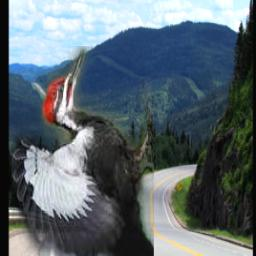Woodpecker: (12, 46, 155, 256)
